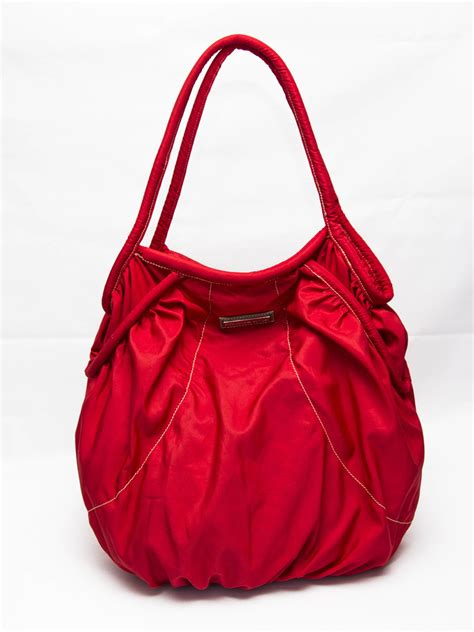nylon: (76, 251, 426, 603)
